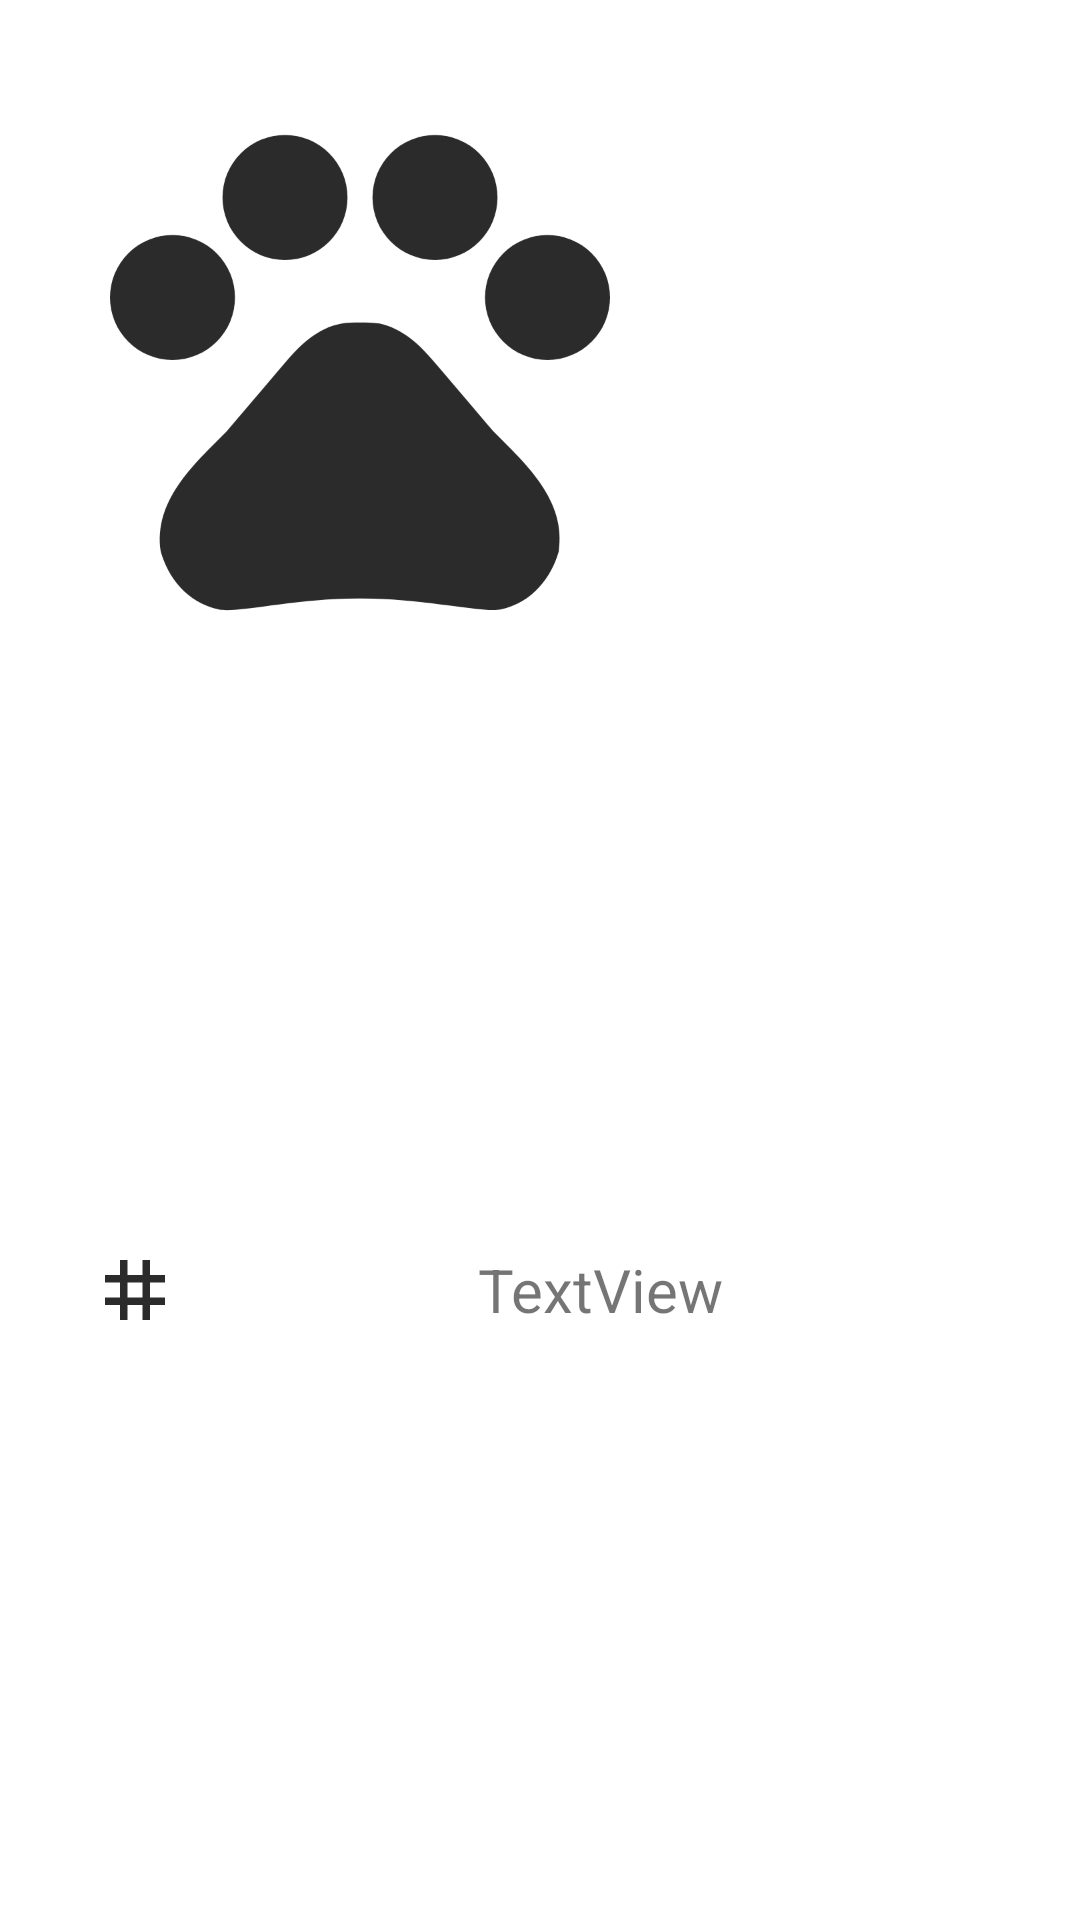

Icon click points for this 1080px×1920px phone screenshot, format [x,y]:
hash tag: [135,1290]
